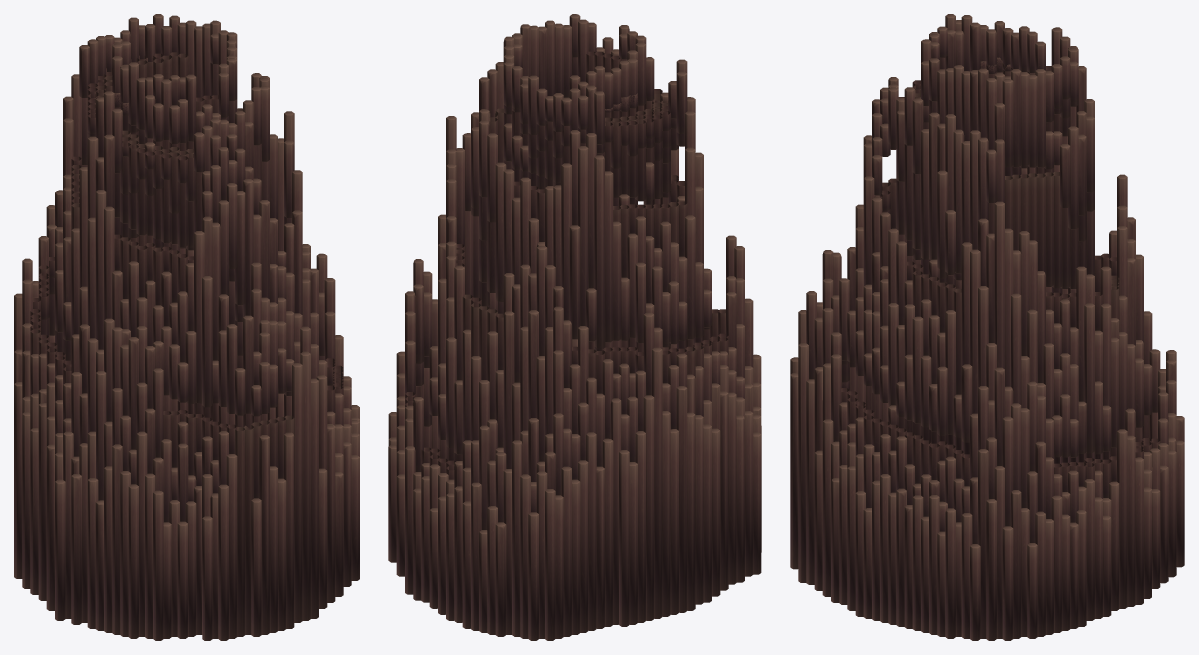
Rendered from Room04_Time_update_version.fbx.
The picture shows the model from 3 angles, left to right: view 1: azimuth 30°, elevation 25°; view 2: azimuth 150°, elevation 25°; view 3: azimuth 270°, elevation 25°; orthographic projection.
Parts seen in each view (by area): view 1: Basalt_Floor_Pillars, Basalt_Floor_Time_pillars; view 2: Basalt_Floor_Pillars, Basalt_Floor_Time_pillars; view 3: Basalt_Floor_Pillars, Basalt_Floor_Time_pillars.
Part boxes in pixels (box(x1,y1,x2,y2)): Basalt_Floor_Pillars: box(14, 14, 359, 640); Basalt_Floor_Time_pillars: box(112, 56, 128, 115); Basalt_Floor_Pillars: box(388, 14, 761, 640); Basalt_Floor_Time_pillars: box(605, 58, 637, 111); Basalt_Floor_Pillars: box(790, 14, 1184, 640); Basalt_Floor_Time_pillars: box(980, 21, 1018, 73).
Bounding box in the file's own units: 11685 × 18092 × 12528.
